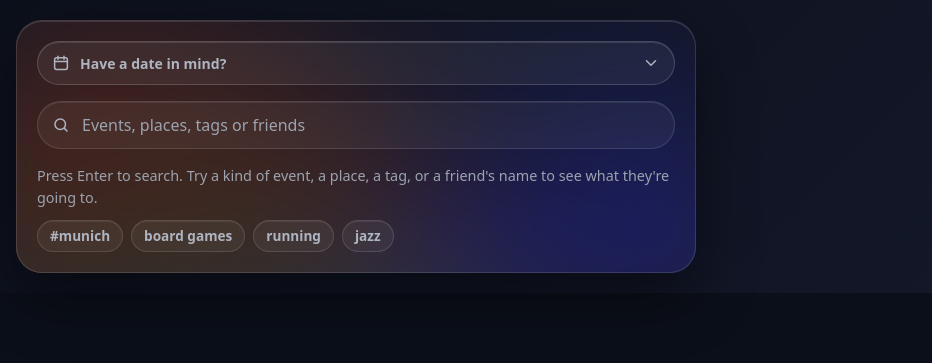
it: recent searches show only while the field has focus, in place of the tips
The width and height of the screenshot is (932, 363).
Expected: the list "Recent searches" is not shown
Expected: the text "Press Enter to search" is shown, [37,166,669,207]
Step 1. Focus the search field named "Search events" → (373, 125), box [80,112,666,138]
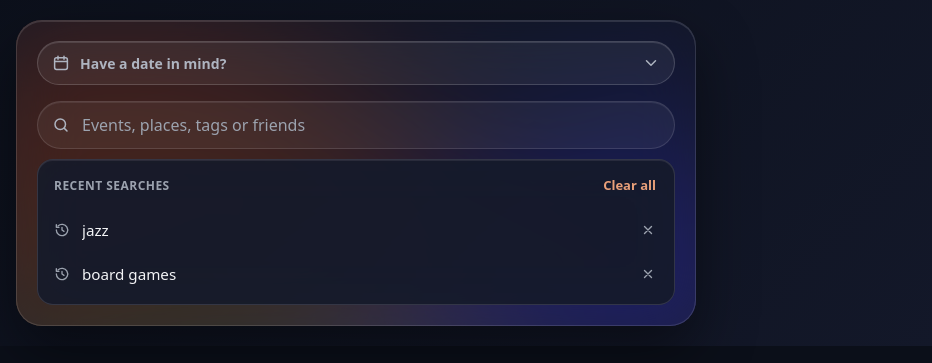
Result: the list named "Recent searches" is shown at [38,208,674,296]
Result: the text "Press Enter to search" is gone
Result: the list items read "jazz", "board games", in this order at [38,208,674,252]; [38,252,674,296]
Step 2. Press Escape in the search field named "Search events", box [80,112,666,138]
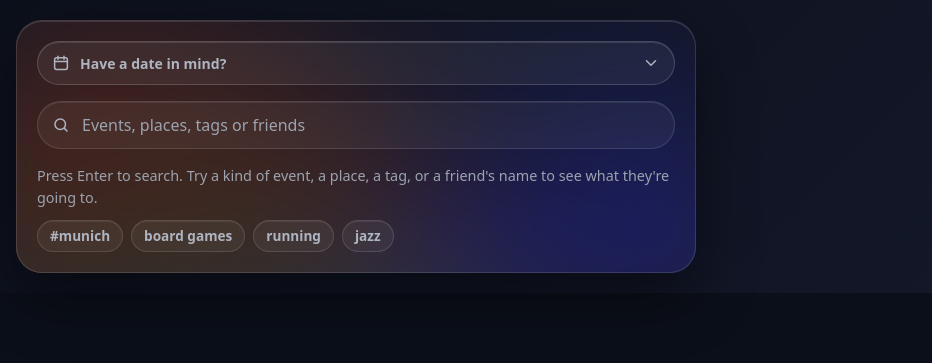
Result: the heading "Recent searches" is gone
Result: the text "Press Enter to search" is shown at [37,166,669,207]
